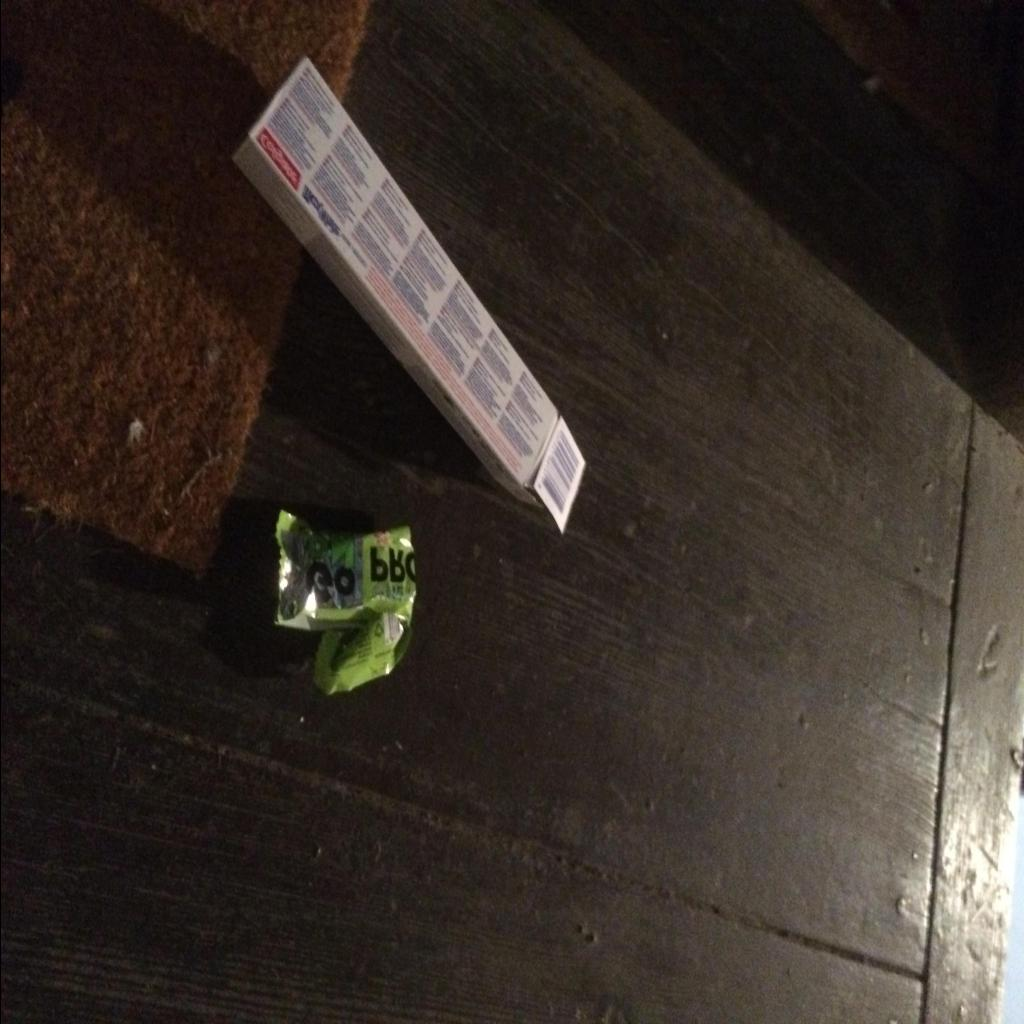Other carton: (230, 53, 586, 536)
Other plastic: (272, 507, 416, 696)
